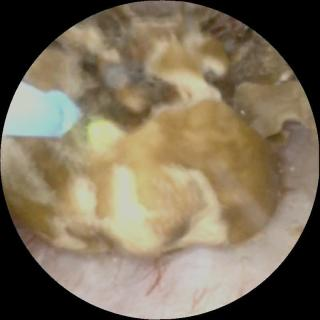fiber: (5, 83, 81, 136)
laser: (88, 119, 110, 146)
stone: (4, 6, 316, 254)
